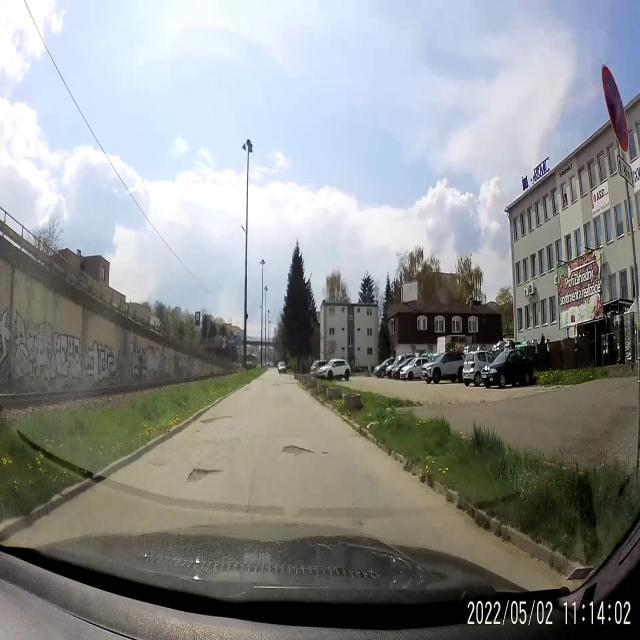Pothole: (187, 462, 226, 487), (281, 441, 314, 462), (200, 411, 236, 426), (321, 449, 330, 458), (192, 426, 200, 436), (282, 381, 294, 386), (272, 381, 280, 387)
